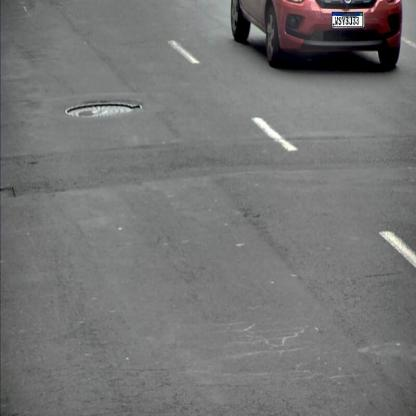PlacaM: (332, 12, 363, 27)
